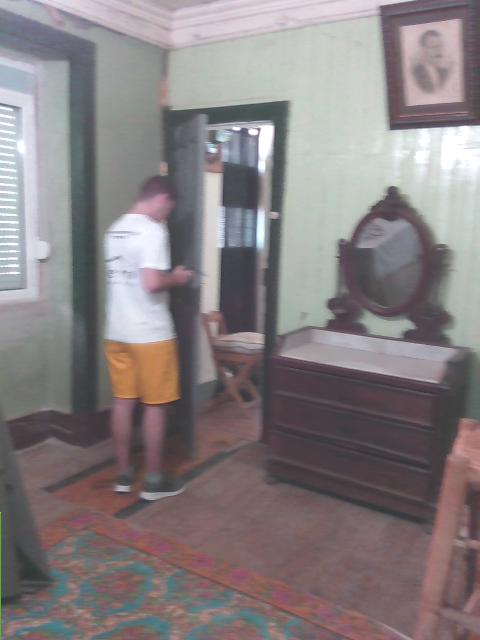semi_door: (161, 98, 289, 462)
